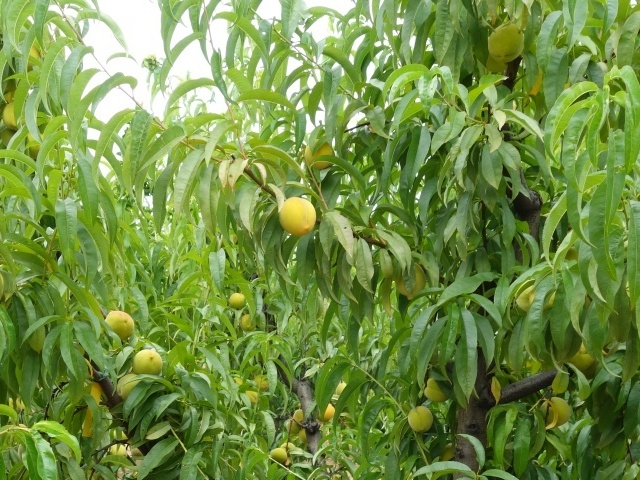peach: (277, 195, 321, 239), (486, 21, 527, 64), (514, 275, 555, 311), (394, 262, 427, 304), (129, 347, 165, 382), (301, 140, 338, 174), (481, 49, 518, 79), (542, 393, 573, 428), (101, 308, 137, 338), (407, 403, 438, 437), (112, 372, 146, 401), (423, 372, 449, 406), (313, 402, 339, 427), (268, 445, 289, 470), (226, 290, 248, 312), (237, 310, 255, 334), (282, 416, 301, 436), (292, 405, 309, 423)
